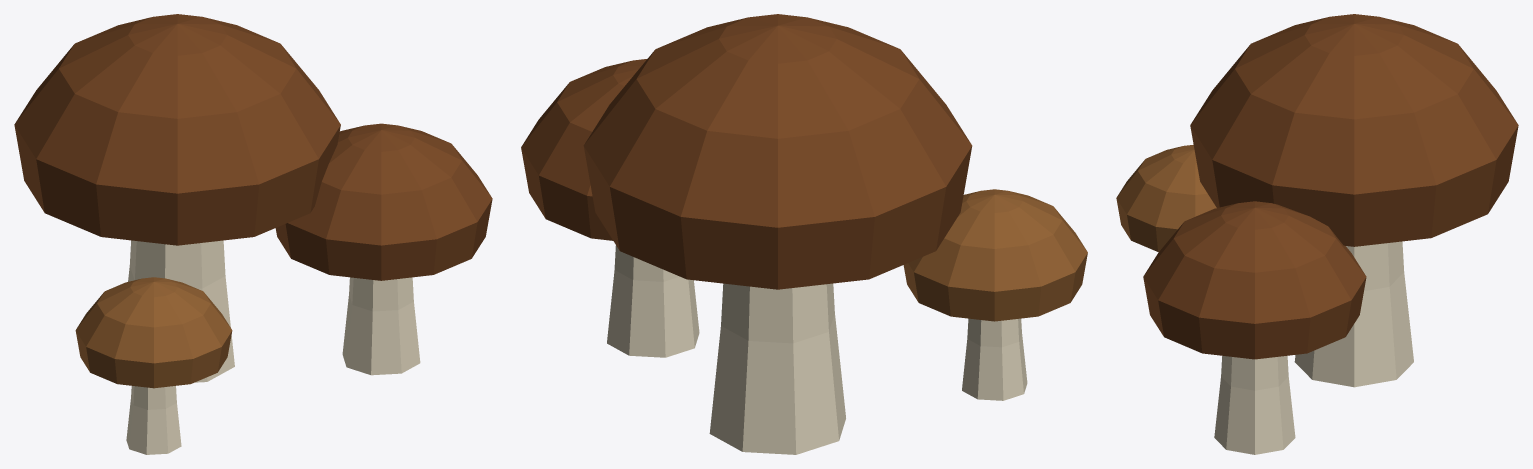
Rendered from Trail_Mushroom_Brown.obj.
The picture shows the model from 3 angles, left to right: view 1: azimuth 30°, elevation 25°; view 2: azimuth 150°, elevation 25°; view 3: azimuth 270°, elevation 25°; orthographic projection. The views are drawn at different scales.
Visible parts, largest first — view 1: Trail_Mushroom_Brown; view 2: Trail_Mushroom_Brown; view 3: Trail_Mushroom_Brown.
Boxes of the visible parts, x1,y1,x2,y2 form: Trail_Mushroom_Brown: (14,14,492,454); Trail_Mushroom_Brown: (521,14,1087,454); Trail_Mushroom_Brown: (1116,14,1518,454).
Size of the model in its own units: 0.2457 by 0.1875 by 0.2021.
